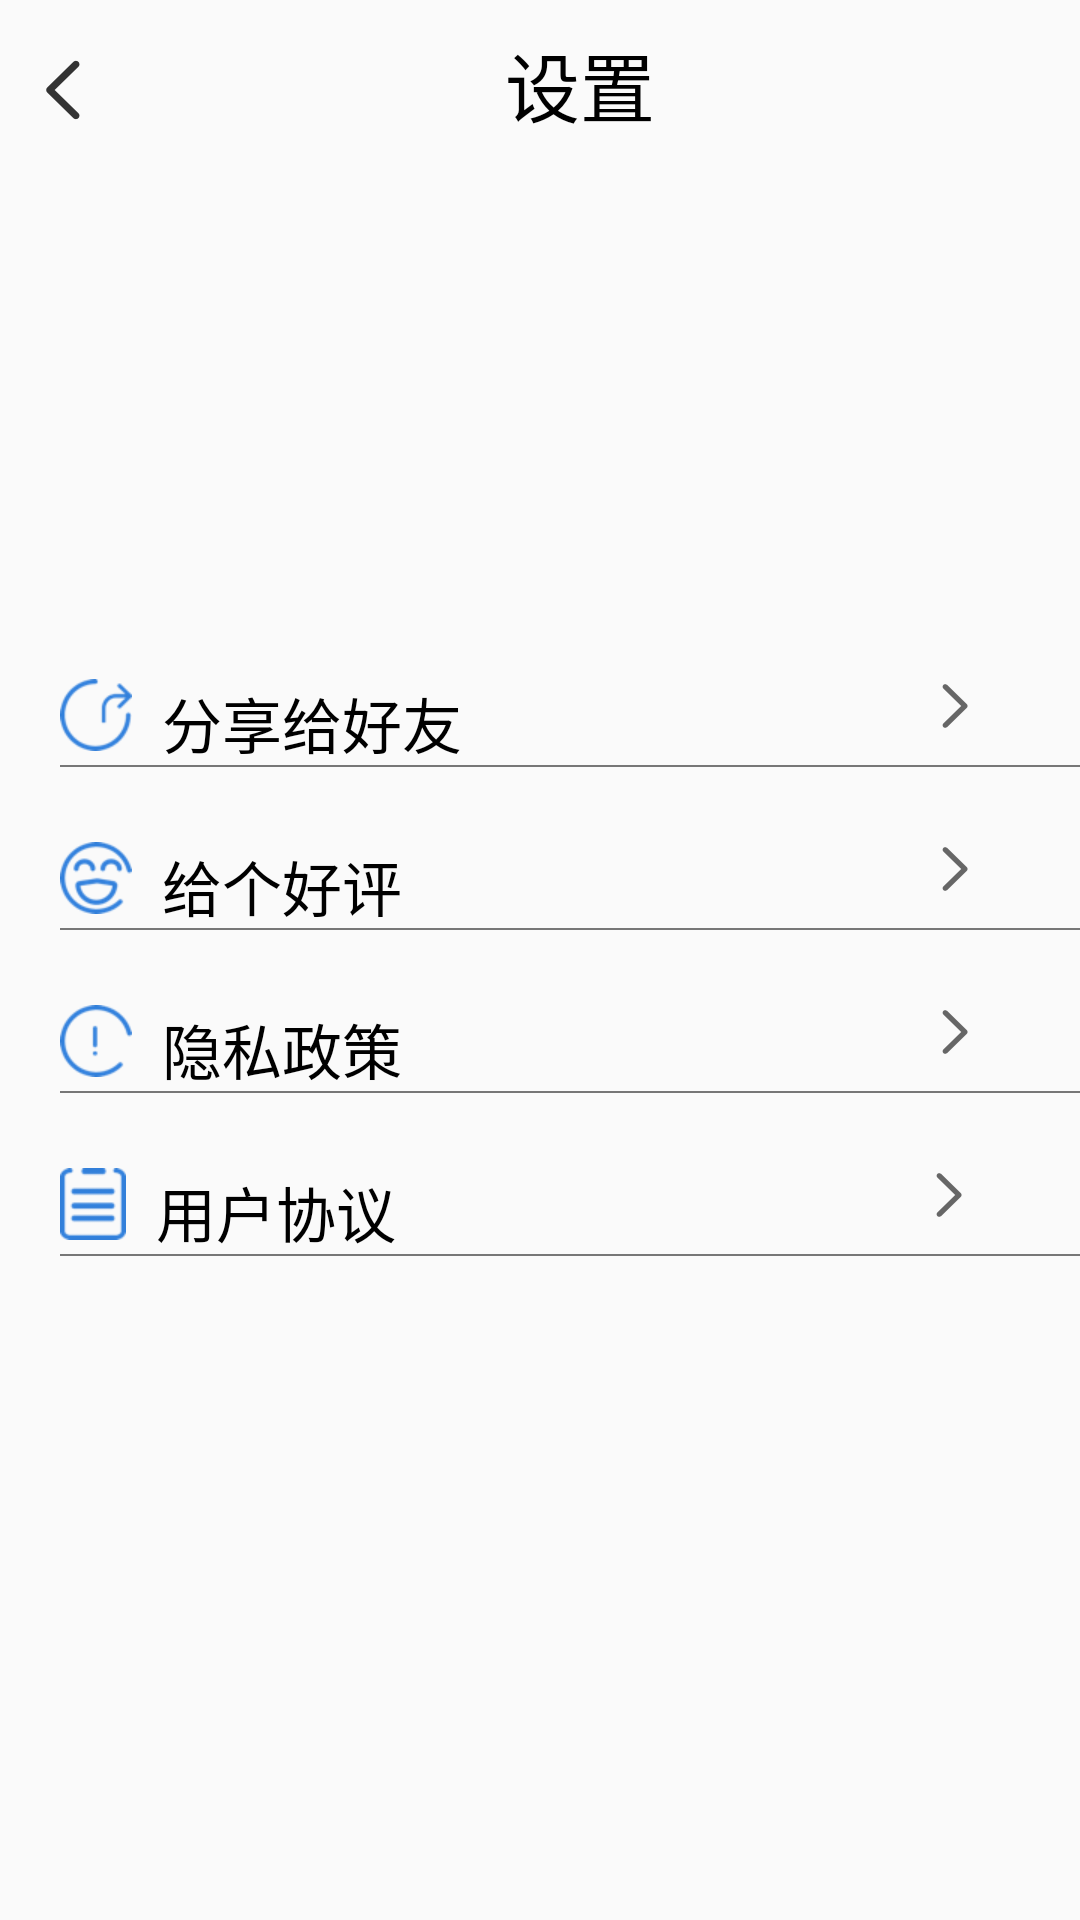

Where to tap for icons on this 1080w x 1920h app screen, as (x,y):
fenxiang: (96,715)
haoping: (96,878)
setting back: (63,90)
yinsi: (96,1041)
yonghu: (93,1204)
